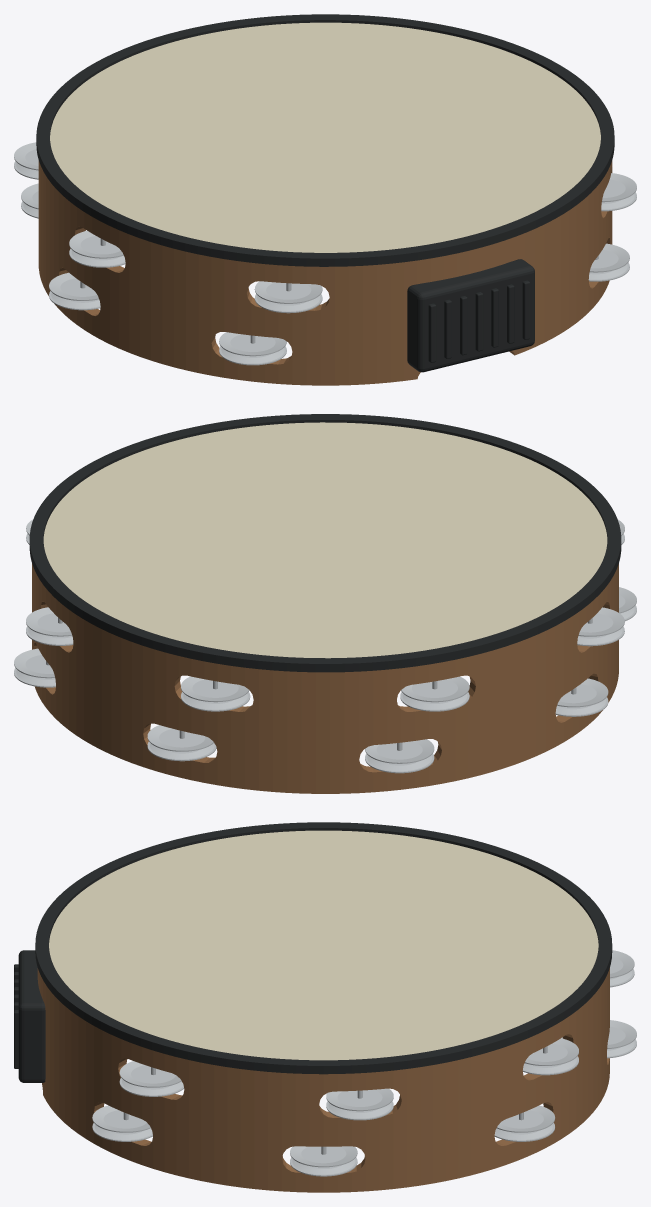
Rendered from full.glb.
3 renders of one model, top to bottom at view 1: azimuth 30°, elevation 25°; view 2: azimuth 150°, elevation 25°; view 3: azimuth 270°, elevation 25°, orthographic. The views are drawn at different scales.
Visible parts, largest first — view 1: Cream taut head, Wooden slotted circular frame, Narrow dark upper binding, Rounded grip pad, Jingle 1 7 1, Jingle 0 7 1, Jingle 1 6 1, Jingle 0 6 1, Jingle 0 1 1, Jingle 1 1 1, Jingle 0 7 -1, Jingle 1 7 -1 (+4 smaller); view 2: Cream taut head, Wooden slotted circular frame, Narrow dark upper binding, Jingle 0 5 1, Jingle 1 5 1, Jingle 1 4 1, Jingle 0 4 1, Jingle 0 6 1, Jingle 1 6 1, Jingle 1 3 1, Jingle 0 3 1, Jingle 0 5 -1 (+3 smaller); view 3: Cream taut head, Wooden slotted circular frame, Narrow dark upper binding, Rounded grip pad, Jingle 0 2 1, Jingle 1 2 1, Jingle 1 1 1, Jingle 0 1 1, Jingle 0 3 1, Jingle 1 3 1, Jingle 0 2 -1, Jingle 1 2 -1 (+6 smaller).
Part boxes in pixels (x1,y1,x2,y2): Cream taut head: (50, 22, 600, 252); Wooden slotted circular frame: (38, 160, 612, 385); Narrow dark upper binding: (36, 14, 614, 266); Rounded grip pad: (407, 259, 534, 372); Jingle 1 7 1: (254, 281, 322, 303); Jingle 0 7 1: (219, 332, 286, 356); Jingle 1 6 1: (69, 230, 123, 258); Jingle 0 6 1: (49, 272, 98, 300); Jingle 0 1 1: (589, 243, 629, 272); Jingle 1 1 1: (602, 173, 636, 202); Jingle 0 7 -1: (219, 346, 286, 365); Jingle 1 7 -1: (254, 294, 322, 313); Cream taut head: (43, 422, 607, 658); Wooden slotted circular frame: (32, 563, 618, 793); Narrow dark upper binding: (29, 414, 621, 672); Jingle 0 5 1: (365, 739, 434, 763); Jingle 1 5 1: (401, 676, 469, 702); Jingle 1 4 1: (181, 676, 249, 702); Jingle 0 4 1: (147, 725, 213, 751); Jingle 0 6 1: (557, 678, 608, 707); Jingle 1 6 1: (578, 607, 624, 636); Jingle 1 3 1: (26, 607, 72, 636); Jingle 0 3 1: (14, 648, 54, 678); Jingle 0 5 -1: (365, 753, 434, 773); Cream taut head: (49, 830, 598, 1060); Wooden slotted circular frame: (37, 968, 609, 1192); Narrow dark upper binding: (35, 822, 612, 1074); Rounded grip pad: (18, 950, 45, 1082); Jingle 0 2 1: (290, 1146, 357, 1167); Jingle 1 2 1: (326, 1088, 393, 1111); Jingle 1 1 1: (119, 1061, 181, 1087); Jingle 0 1 1: (92, 1105, 150, 1132); Jingle 0 3 1: (497, 1105, 555, 1132); Jingle 1 3 1: (525, 1038, 578, 1065); Jingle 0 2 -1: (290, 1157, 357, 1176); Jingle 1 2 -1: (326, 1101, 393, 1120).
Size of the model in its own units: 0.278 by 0.0625 by 0.2765.
